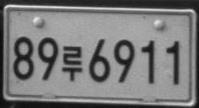1: (139, 39, 160, 84), (164, 40, 185, 85)
6: (88, 38, 111, 83)
8: (12, 35, 34, 80)
9: (113, 38, 135, 83), (37, 36, 58, 80)
루: (61, 45, 82, 81)
